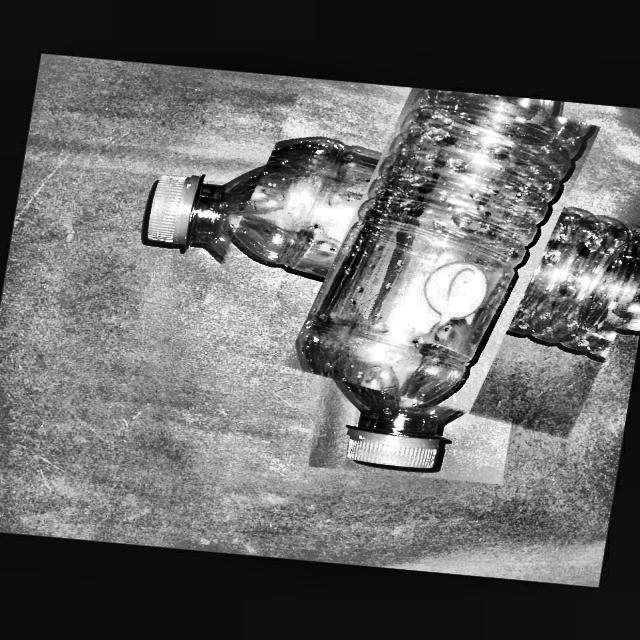Plastic-Bottle: (195, 71, 640, 429)
